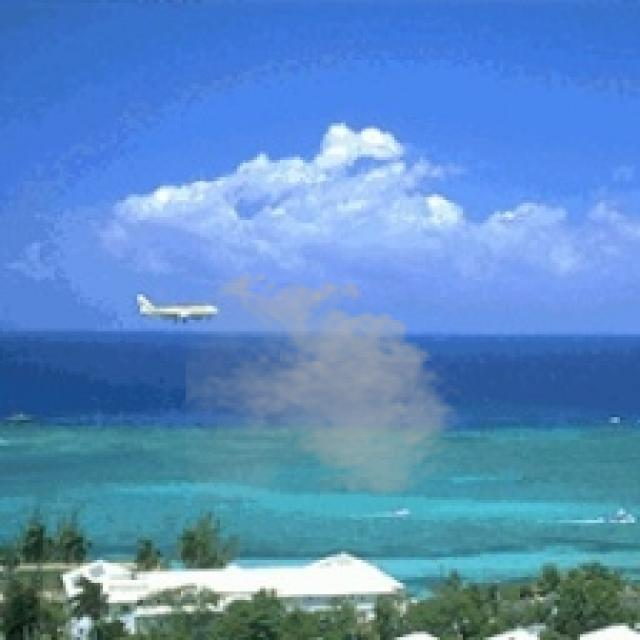Smoke: (186, 266, 468, 503)
